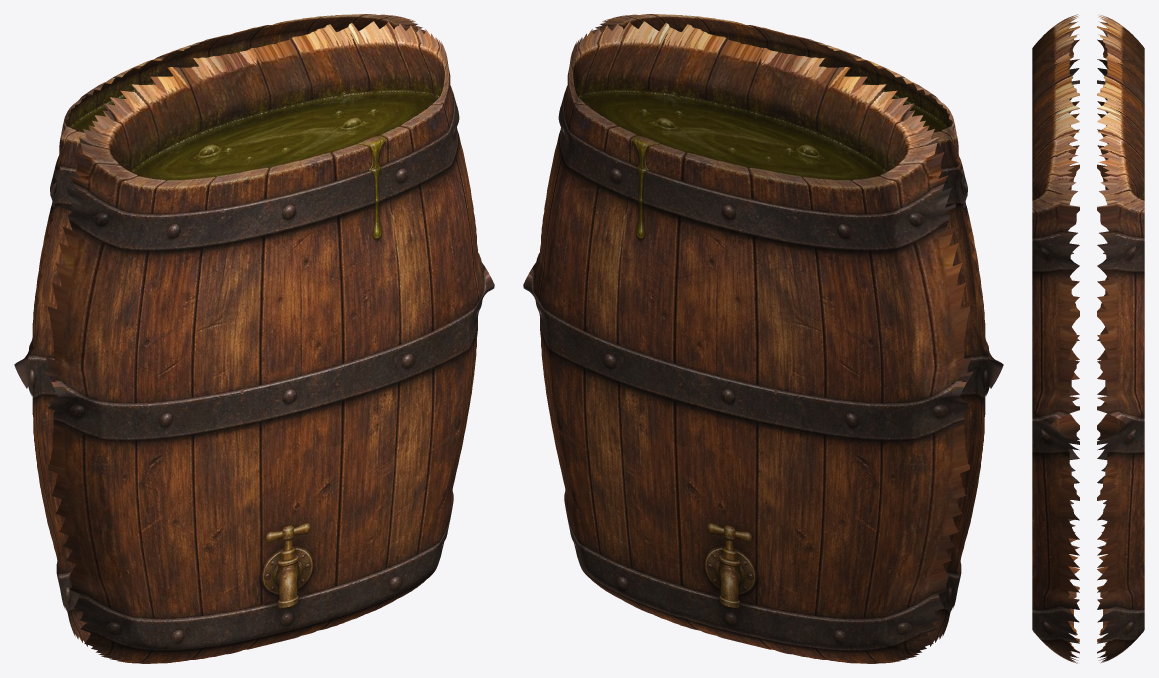
File: v4-alchemist-scatter-dress-green-barrel.glb
3 renders of one model, left to right at view 1: azimuth 30°, elevation 25°; view 2: azimuth 150°, elevation 25°; view 3: azimuth 270°, elevation 25°, orthographic. The views are drawn at different scales.
Visible parts, largest first — view 1: v4-alchemist-scatter-dress-green-barrel; view 2: v4-alchemist-scatter-dress-green-barrel; view 3: v4-alchemist-scatter-dress-green-barrel.
Boxes of the visible parts, x1=… form: v4-alchemist-scatter-dress-green-barrel: x1=14, y1=14, x2=494, y2=663; v4-alchemist-scatter-dress-green-barrel: x1=523, y1=14, x2=1003, y2=663; v4-alchemist-scatter-dress-green-barrel: x1=1032, y1=14, x2=1144, y2=663.
Bounding box in the file's own units: 0.7535 × 0.9875 × 0.1823.
Materials: 1 (1 with a texture image).
